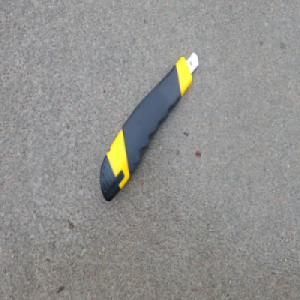Cutter: (98, 47, 199, 202)
